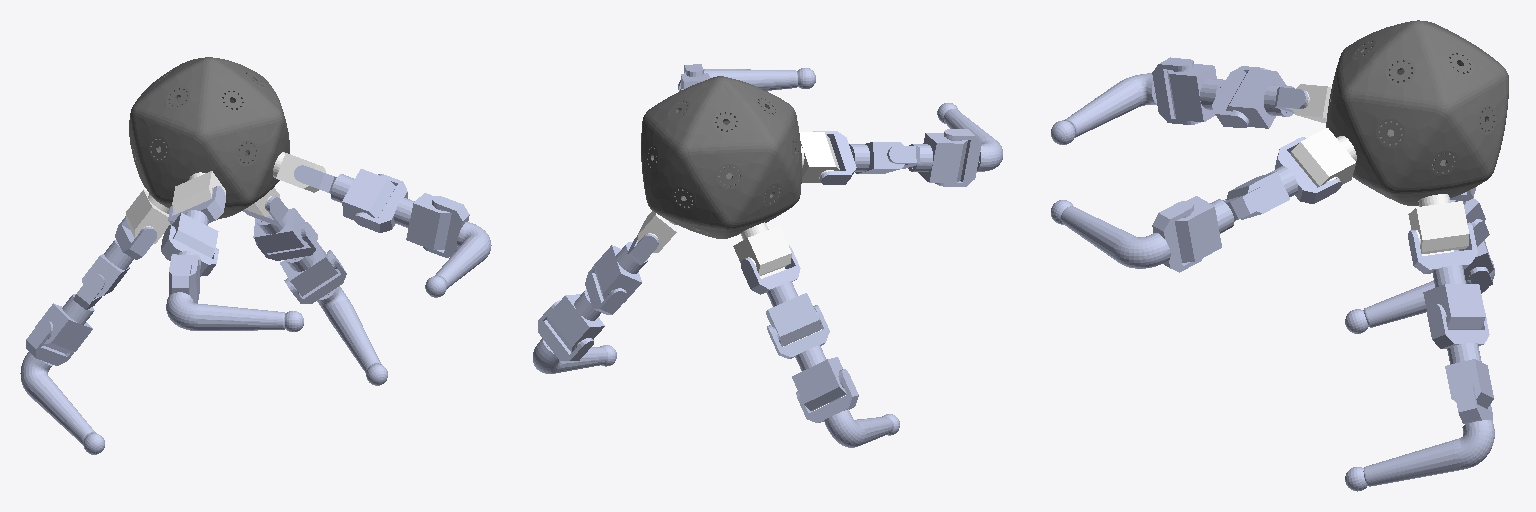
The robot description file, URDF, robot "mod_test":
<?xml version="1.0" encoding="utf-8"?>
<robot
  name="mod_test">
  <link
    name="base_link">
    <inertial>
      <origin
        xyz="-1.5226495220944E-06 1.5812928362389E-07 -5.05247252856584E-07"
        rpy="0 0 0" />
      <mass
        value="0.422806992949252" />
      <inertia
        ixx="0.00237499139253511"
        ixy="1.5717831530364E-08"
        ixz="1.49286265366169E-08"
        iyy="0.00237502154661776"
        iyz="-2.02154172619351E-08"
        izz="0.00237502595466009" />
    </inertial>
    <visual>
      <origin
        xyz="0 0 0"
        rpy="0 0 0" />
      <geometry>
        <mesh
          filename="package://meshes/base_link.STL" />
      </geometry>
      <material
        name="">
        <color
          rgba="0.498039215686275 0.498039215686275 0.498039215686275 1" />
      </material>
    </visual>
    <collision>
      <origin
        xyz="0 0 0"
        rpy="0 0 0" />
      <geometry>
        <mesh
          filename="package://meshes/base_link.STL" />
      </geometry>
    </collision>
  </link>
  <link
   name="160">
   <inertial>
      <origin
        xyz="0 0 0.028508"
        rpy="0 0 0" />
      <mass
        value="0.076173" />
      <inertia
        ixx="3.054E-05"
        ixy="0.000000"
        ixz="0.000000"
        iyy="2.1077E-05"
        iyz="0.000000"
        izz="2.1165E-05" />
    </inertial>
    <visual>
      <origin
        xyz="0 0 0"
        rpy="0 0 0" />
      <geometry>
        <mesh
          filename="package://meshes/1.STL" />
      </geometry>
      <material
        name="">
        <color
          rgba="1 1 1 1" />
      </material>
    </visual>
    <collision>
      <origin
        xyz="0 0 0"
        rpy="0 0 0" />
      <geometry>
        <mesh
          filename="package://meshes/1.STL" />
      </geometry>
    </collision>
  </link>
  <joint
    name="body_160"
    type="fixed">
    <origin
        xyz="0.051623 0.016773 -0.071046"
        rpy="3.141593 -0.652404 0.314159" />
    <parent
      link="base_link" />
    <child
      link="160" />
    <axis
      xyz="0 0 0" />
  </joint>
  <link
    name="161">
    <inertial>
      <origin
        xyz="0.060018 -1.4108E-06 1.4108E-06"
        rpy="0 0 0" />
    <mass
        value="0.10689" />
      <inertia
        ixx="3.2684e-05"
        ixy="-2.5662e-09"
        ixz="2.5662e-09"
        iyy="9.1229e-05"
        iyz="-4.0975e-06"
        izz="7.7485e-05" />
    </inertial>
    <visual>
      <origin
        xyz="0 0 0"
        rpy="0 0 0" />
      <geometry>
        <mesh
          filename="package://meshes/module11.STL" />
      </geometry>
      <material
        name="">
        <color
          rgba="0.79216 0.81961 0.93333 1" />
      </material>
    </visual>
    <collision>
      <origin
        xyz="0 0 0"
        rpy="0 0 0" />
      <geometry>
        <mesh
          filename="package://meshes/module11.STL" />
      </geometry>
    </collision>
  </link>
  <joint
    name="160_161"
    type="revolute">
    <origin
      xyz="0 0 0.04"
      rpy="-1.558 -1.5708 -0.012835" />
    <parent
      link="160" />
    <child
      link="161" />
    <axis
      xyz="0 0 1" />
    <limit
      lower="-6.28"
      upper="6.28"
      effort="10"
      velocity="100" />
  </joint>
  <link
    name="162">
    <inertial>
      <origin
        xyz="0.060018 -1.4108E-06 1.4108E-06"
        rpy="0 0 0" />
    <mass
        value="0.10689" />
      <inertia
        ixx="3.2684e-05"
        ixy="-2.5662e-09"
        ixz="2.5662e-09"
        iyy="9.1229e-05"
        iyz="-4.0975e-06"
        izz="7.7485e-05" />
    </inertial>
    <visual>
      <origin
        xyz="0 0 0"
        rpy="0 0 0" />
      <geometry>
        <mesh
          filename="package://meshes/module11.STL" />
      </geometry>
      <material
        name="">
        <color
          rgba="0.79216 0.81961 0.93333 1" />
      </material>
    </visual>
    <collision>
      <origin
        xyz="0 0 0"
        rpy="0 0 0" />
      <geometry>
        <mesh
          filename="package://meshes/module11.STL" />
      </geometry>
    </collision>
  </link>
  <joint
    name="161_162"
    type="revolute">
    <origin
      xyz="0.0816 0 0"
      rpy="5.759587 0 0" />
    <parent
      link="161" />
    <child
      link="162" />
    <axis
      xyz="0 0 1" />
    <limit
      lower="-6.28"
      upper="6.28"
      effort="10"
      velocity="100" />
  </joint>
  <link
    name="163">
    <inertial>
      <origin
        xyz="0.051733 -0.042281 -1.3878E-17"
        rpy="0 0 0" />
    <mass
        value="0.12059" />
      <inertia
        ixx="0.00025425"
        ixy="4.8319E-05"
        ixz="0"
        iyy="5.0194E-05"
        iyz="-3.3141E-21"
        izz="0.00027482" />
    </inertial>
    <visual>
      <origin
        xyz="0 0 0"
        rpy="0 0 0" />
      <geometry>
        <mesh
          filename="package://meshes/leg.STL" />
      </geometry>
      <material
        name="">
        <color
          rgba="0.79216 0.81961 0.93333 1" />
      </material>
    </visual>
    <collision>
      <origin
        xyz="0 0 0"
        rpy="0 0 0" />
      <geometry>
        <mesh
          filename="package://meshes/leg.STL" />
      </geometry>
    </collision>
  </link>
  <joint
    name="162_163"
    type="revolute">
    <origin
      xyz="0.0816 0 0"
      rpy="5.759587 0 0" />
    <parent
      link="162" />
    <child
      link="163" />
    <axis
      xyz="0 0 1" />
    <limit
      lower="-6.28"
      upper="6.28"
      effort="10"
      velocity="100" />
  </joint>
  <link
   name="100">
   <inertial>
      <origin
        xyz="0 0 0.028508"
        rpy="0 0 0" />
      <mass
        value="0.076173" />
      <inertia
        ixx="3.054E-05"
        ixy="-0.000000"
        ixz="-0.000000"
        iyy="2.1077E-05"
        iyz="-0.000000"
        izz="2.1165E-05" />
    </inertial>
    <visual>
      <origin
        xyz="0 0 0"
        rpy="0 0 0" />
      <geometry>
        <mesh
          filename="package://meshes/1.STL" />
      </geometry>
      <material
        name="">
        <color
          rgba="1 1 1 1" />
      </material>
    </visual>
    <collision>
      <origin
        xyz="0 0 0"
        rpy="0 0 0" />
      <geometry>
        <mesh
          filename="package://meshes/1.STL" />
      </geometry>
    </collision>
  </link>
  <joint
    name="body_100"
    type="fixed">
    <origin
        xyz="0.051620 -0.071049 -0.016769"
        rpy="-1.935587 1.017234 -2.827371" />
    <parent
      link="base_link" />
    <child
      link="100" />
    <axis
      xyz="0 0 0" />
  </joint>
  <link
    name="101">
    <inertial>
      <origin
        xyz="0.060018 -1.4108E-06 1.4108E-06"
        rpy="0 0 0" />
    <mass
        value="0.10689" />
      <inertia
        ixx="3.2684e-05"
        ixy="-2.5662e-09"
        ixz="2.5662e-09"
        iyy="8.6498e-05"
        iyz="4.0975e-06"
        izz="8.2217e-05" />
    </inertial>
    <visual>
      <origin
        xyz="0 0 0"
        rpy="0 0 0" />
      <geometry>
        <mesh
          filename="package://meshes/module2.STL" />
      </geometry>
      <material
        name="">
        <color
          rgba="0.79216 0.81961 0.93333 1" />
      </material>
    </visual>
    <collision>
      <origin
        xyz="0 0 0"
        rpy="0 0 0" />
      <geometry>
        <mesh
          filename="package://meshes/module2.STL" />
      </geometry>
    </collision>
  </link>
  <joint
    name="100_101"
    type="revolute">
    <origin
      xyz="0 0 0.04"
      rpy="-1.558 -1.5708 -0.012835" />
    <parent
      link="100" />
    <child
      link="101" />
    <axis
      xyz="0 0 1" />
    <limit
      lower="-6.28"
      upper="6.28"
      effort="10"
      velocity="100" />
  </joint>
  <link
    name="102">
    <inertial>
      <origin
        xyz="0.060018 -1.4108E-06 1.4108E-06"
        rpy="0 0 0" />
    <mass
        value="0.10689" />
      <inertia
        ixx="3.2684e-05"
        ixy="-2.5662e-09"
        ixz="2.5662e-09"
        iyy="8.6498e-05"
        iyz="4.0975e-06"
        izz="8.2217e-05" />
    </inertial>
    <visual>
      <origin
        xyz="0 0 0"
        rpy="0 0 0" />
      <geometry>
        <mesh
          filename="package://meshes/module2.STL" />
      </geometry>
      <material
        name="">
        <color
          rgba="0.79216 0.81961 0.93333 1" />
      </material>
    </visual>
    <collision>
      <origin
        xyz="0 0 0"
        rpy="0 0 0" />
      <geometry>
        <mesh
          filename="package://meshes/module2.STL" />
      </geometry>
    </collision>
  </link>
  <joint
    name="101_102"
    type="revolute">
    <origin
      xyz="0.0816 0 0"
      rpy="1.047198 0 0" />
    <parent
      link="101" />
    <child
      link="102" />
    <axis
      xyz="0 0 1" />
    <limit
      lower="-6.28"
      upper="6.28"
      effort="10"
      velocity="100" />
  </joint>
  <link
    name="103">
    <inertial>
      <origin
        xyz="0.051733 -0.042281 -1.3878E-17"
        rpy="0 0 0" />
    <mass
        value="0.12059" />
      <inertia
        ixx="0.00025425"
        ixy="4.8319E-05"
        ixz="0"
        iyy="5.0194E-05"
        iyz="-3.3141E-21"
        izz="0.00027482" />
    </inertial>
    <visual>
      <origin
        xyz="0 0 0"
        rpy="0 0 0" />
      <geometry>
        <mesh
          filename="package://meshes/leg.STL" />
      </geometry>
      <material
        name="">
        <color
          rgba="0.79216 0.81961 0.93333 1" />
      </material>
    </visual>
    <collision>
      <origin
        xyz="0 0 0"
        rpy="0 0 0" />
      <geometry>
        <mesh
          filename="package://meshes/leg.STL" />
      </geometry>
    </collision>
  </link>
  <joint
    name="102_103"
    type="revolute">
    <origin
      xyz="0.0816 0 0"
      rpy="1.047198 0 0" />
    <parent
      link="102" />
    <child
      link="103" />
    <axis
      xyz="0 0 1" />
    <limit
      lower="-6.28"
      upper="6.28"
      effort="10"
      velocity="100" />
  </joint>
  <link
   name="140">
   <inertial>
      <origin
        xyz="0 0 0.028508"
        rpy="0 0 0" />
      <mass
        value="0.076173" />
      <inertia
        ixx="3.054E-05"
        ixy="-0.000000"
        ixz="0.000000"
        iyy="2.1077E-05"
        iyz="-0.000000"
        izz="2.1165E-05" />
    </inertial>
    <visual>
      <origin
        xyz="0 0 0"
        rpy="0 0 0" />
      <geometry>
        <mesh
          filename="package://meshes/1.STL" />
      </geometry>
      <material
        name="">
        <color
          rgba="1 1 1 1" />
      </material>
    </visual>
    <collision>
      <origin
        xyz="0 0 0"
        rpy="0 0 0" />
      <geometry>
        <mesh
          filename="package://meshes/1.STL" />
      </geometry>
    </collision>
  </link>
  <joint
    name="body_140"
    type="fixed">
    <origin
        xyz="-0.051620 -0.071049 -0.016769"
        rpy="1.935587 1.017234 -0.314221" />
    <parent
      link="base_link" />
    <child
      link="140" />
    <axis
      xyz="0 0 0" />
  </joint>
  <link
    name="141">
    <inertial>
      <origin
        xyz="0.060018 -1.4108E-06 1.4108E-06"
        rpy="0 0 0" />
    <mass
        value="0.10689" />
      <inertia
        ixx="3.2684e-05"
        ixy="-2.5662e-09"
        ixz="2.5662e-09"
        iyy="8.6498e-05"
        iyz="-4.0975e-06"
        izz="8.2217e-05" />
    </inertial>
    <visual>
      <origin
        xyz="0 0 0"
        rpy="0 0 0" />
      <geometry>
        <mesh
          filename="package://meshes/module10.STL" />
      </geometry>
      <material
        name="">
        <color
          rgba="0.79216 0.81961 0.93333 1" />
      </material>
    </visual>
    <collision>
      <origin
        xyz="0 0 0"
        rpy="0 0 0" />
      <geometry>
        <mesh
          filename="package://meshes/module10.STL" />
      </geometry>
    </collision>
  </link>
  <joint
    name="140_141"
    type="revolute">
    <origin
      xyz="0 0 0.04"
      rpy="-1.558 -1.5708 -0.012835" />
    <parent
      link="140" />
    <child
      link="141" />
    <axis
      xyz="0 0 1" />
    <limit
      lower="-6.28"
      upper="6.28"
      effort="10"
      velocity="100" />
  </joint>
  <link
    name="142">
    <inertial>
      <origin
        xyz="0.060018 -1.4108E-06 1.4108E-06"
        rpy="0 0 0" />
    <mass
        value="0.10689" />
      <inertia
        ixx="3.2684e-05"
        ixy="-2.5662e-09"
        ixz="2.5662e-09"
        iyy="8.6498e-05"
        iyz="-4.0975e-06"
        izz="8.2217e-05" />
    </inertial>
    <visual>
      <origin
        xyz="0 0 0"
        rpy="0 0 0" />
      <geometry>
        <mesh
          filename="package://meshes/module10.STL" />
      </geometry>
      <material
        name="">
        <color
          rgba="0.79216 0.81961 0.93333 1" />
      </material>
    </visual>
    <collision>
      <origin
        xyz="0 0 0"
        rpy="0 0 0" />
      <geometry>
        <mesh
          filename="package://meshes/module10.STL" />
      </geometry>
    </collision>
  </link>
  <joint
    name="141_142"
    type="revolute">
    <origin
      xyz="0.0816 0 0"
      rpy="5.235988 0 0" />
    <parent
      link="141" />
    <child
      link="142" />
    <axis
      xyz="0 0 1" />
    <limit
      lower="-6.28"
      upper="6.28"
      effort="10"
      velocity="100" />
  </joint>
  <link
    name="143">
    <inertial>
      <origin
        xyz="0.051733 -0.042281 -1.3878E-17"
        rpy="0 0 0" />
    <mass
        value="0.12059" />
      <inertia
        ixx="0.00025425"
        ixy="4.8319E-05"
        ixz="0"
        iyy="5.0194E-05"
        iyz="-3.3141E-21"
        izz="0.00027482" />
    </inertial>
    <visual>
      <origin
        xyz="0 0 0"
        rpy="0 0 0" />
      <geometry>
        <mesh
          filename="package://meshes/leg.STL" />
      </geometry>
      <material
        name="">
        <color
          rgba="0.79216 0.81961 0.93333 1" />
      </material>
    </visual>
    <collision>
      <origin
        xyz="0 0 0"
        rpy="0 0 0" />
      <geometry>
        <mesh
          filename="package://meshes/leg.STL" />
      </geometry>
    </collision>
  </link>
  <joint
    name="142_143"
    type="revolute">
    <origin
      xyz="0.0816 0 0"
      rpy="5.235988 0 0" />
    <parent
      link="142" />
    <child
      link="143" />
    <axis
      xyz="0 0 1" />
    <limit
      lower="-6.28"
      upper="6.28"
      effort="10"
      velocity="100" />
  </joint>
  <link
   name="180">
   <inertial>
      <origin
        xyz="0 0 0.028508"
        rpy="0 0 0" />
      <mass
        value="0.076173" />
      <inertia
        ixx="3.054E-05"
        ixy="0.000000"
        ixz="0.000000"
        iyy="2.1077E-05"
        iyz="0.000000"
        izz="2.1165E-05" />
    </inertial>
    <visual>
      <origin
        xyz="0 0 0"
        rpy="0 0 0" />
      <geometry>
        <mesh
          filename="package://meshes/1.STL" />
      </geometry>
      <material
        name="">
        <color
          rgba="1 1 1 1" />
      </material>
    </visual>
    <collision>
      <origin
        xyz="0 0 0"
        rpy="0 0 0" />
      <geometry>
        <mesh
          filename="package://meshes/1.STL" />
      </geometry>
    </collision>
  </link>
  <joint
    name="body_180"
    type="fixed">
    <origin
        xyz="-0.051623 0.016773 -0.071046"
        rpy="3.141593 -0.652404 2.827433" />
    <parent
      link="base_link" />
    <child
      link="180" />
    <axis
      xyz="0 0 0" />
  </joint>
  <link
    name="181">
    <inertial>
      <origin
        xyz="0.060018 -1.4108E-06 1.4108E-06"
        rpy="0 0 0" />
    <mass
        value="0.10689" />
      <inertia
        ixx="3.2684e-05"
        ixy="-2.5662e-09"
        ixz="2.5662e-09"
        iyy="9.1229e-05"
        iyz="4.0975e-06"
        izz="7.7485e-05" />
    </inertial>
    <visual>
      <origin
        xyz="0 0 0"
        rpy="0 0 0" />
      <geometry>
        <mesh
          filename="package://meshes/module1.STL" />
      </geometry>
      <material
        name="">
        <color
          rgba="0.79216 0.81961 0.93333 1" />
      </material>
    </visual>
    <collision>
      <origin
        xyz="0 0 0"
        rpy="0 0 0" />
      <geometry>
        <mesh
          filename="package://meshes/module1.STL" />
      </geometry>
    </collision>
  </link>
  <joint
    name="180_181"
    type="revolute">
    <origin
      xyz="0 0 0.04"
      rpy="-1.558 -1.5708 -0.012835" />
    <parent
      link="180" />
    <child
      link="181" />
    <axis
      xyz="0 0 1" />
    <limit
      lower="-6.28"
      upper="6.28"
      effort="10"
      velocity="100" />
  </joint>
  <link
    name="182">
    <inertial>
      <origin
        xyz="0.060018 -1.4108E-06 1.4108E-06"
        rpy="0 0 0" />
    <mass
        value="0.10689" />
      <inertia
        ixx="3.2684e-05"
        ixy="-2.5662e-09"
        ixz="2.5662e-09"
        iyy="9.1229e-05"
        iyz="4.0975e-06"
        izz="7.7485e-05" />
    </inertial>
    <visual>
      <origin
        xyz="0 0 0"
        rpy="0 0 0" />
      <geometry>
        <mesh
          filename="package://meshes/module1.STL" />
      </geometry>
      <material
        name="">
        <color
          rgba="0.79216 0.81961 0.93333 1" />
      </material>
    </visual>
    <collision>
      <origin
        xyz="0 0 0"
        rpy="0 0 0" />
      <geometry>
        <mesh
          filename="package://meshes/module1.STL" />
      </geometry>
    </collision>
  </link>
  <joint
    name="181_182"
    type="revolute">
    <origin
      xyz="0.0816 0 0"
      rpy="0.523599 0 0" />
    <parent
      link="181" />
    <child
      link="182" />
    <axis
      xyz="0 0 1" />
    <limit
      lower="-6.28"
      upper="6.28"
      effort="10"
      velocity="100" />
  </joint>
  <link
    name="183">
    <inertial>
      <origin
        xyz="0.051733 -0.042281 -1.3878E-17"
        rpy="0 0 0" />
    <mass
        value="0.12059" />
      <inertia
        ixx="0.00025425"
        ixy="4.8319E-05"
        ixz="0"
        iyy="5.0194E-05"
        iyz="-3.3141E-21"
        izz="0.00027482" />
    </inertial>
    <visual>
      <origin
        xyz="0 0 0"
        rpy="0 0 0" />
      <geometry>
        <mesh
          filename="package://meshes/leg.STL" />
      </geometry>
      <material
        name="">
        <color
          rgba="0.79216 0.81961 0.93333 1" />
      </material>
    </visual>
    <collision>
      <origin
        xyz="0 0 0"
        rpy="0 0 0" />
      <geometry>
        <mesh
          filename="package://meshes/leg.STL" />
      </geometry>
    </collision>
  </link>
  <joint
    name="182_183"
    type="revolute">
    <origin
      xyz="0.0816 0 0"
      rpy="0.523599 0 0" />
    <parent
      link="182" />
    <child
      link="183" />
    <axis
      xyz="0 0 1" />
    <limit
      lower="-6.28"
      upper="6.28"
      effort="10"
      velocity="100" />
  </joint>
  <link
    name = "ball_1">
    <inertial>
    <origin
        xyz="0 0 0"
        rpy="0 0 0" />
    <mass
        value="0" />
      <inertia
        ixx="0"
        ixy="0"
        ixz="0"
        iyy="0"
        iyz="0"
        izz="0" />
    </inertial>    <visual>
      <origin
        xyz="0 0 0"
        rpy="0 0 0" />
     <geometry>
        <sphere radius = "0.01"/>
      </geometry>
      <material
        name="green">
        <color
          rgba="0.22 1 0.4 1" />
      </material>
    </visual>
  </link>
  <joint
  name="163_ball1"
  type="fixed">
    <origin
      xyz="0.0612 -0.13431 0"
      rpy="0 0 0" />
    <parent
      link="163" />
    <child
      link="ball_1" />
    <axis
      xyz="0 0 0" />
  </joint>
  <link
    name = "ball_2">
    <inertial>
    <origin
        xyz="0 0 0"
        rpy="0 0 0" />
    <mass
        value="0" />
      <inertia
        ixx="0"
        ixy="0"
        ixz="0"
        iyy="0"
        iyz="0"
        izz="0" />
    </inertial>    <visual>
      <origin
        xyz="0 0 0"
        rpy="0 0 0" />
      <geometry>
        <sphere radius = "0.01"/>
      </geometry>
      <material
        name="blue">
        <color
          rgba="0.16 0.52 0.8 1" />
      </material>
    </visual>
  </link>
  <joint
  name="103_ball2"
  type="fixed">
    <origin
      xyz="0.0612 -0.13431 0"
      rpy="0 0 0" />
    <parent
      link="103" />
    <child
      link="ball_2" />
    <axis
      xyz="0 0 0" />
  </joint>
  <link
    name = "ball_3">
    <inertial>
    <origin
        xyz="0 0 0"
        rpy="0 0 0" />
    <mass
        value="0" />
      <inertia
        ixx="0"
        ixy="0"
        ixz="0"
        iyy="0"
        iyz="0"
        izz="0" />
    </inertial>    <visual>
      <origin
        xyz="0 0 0"
        rpy="0 0 0" />
     <geometry>
        <sphere radius = "0.01"/>
      </geometry>
      <material
        name="blue">
        <color
          rgba="0.16 0.52 0.8 1" />
      </material>
    </visual>
  </link>
  <joint
  name="143_ball3"
  type="fixed">
    <origin
      xyz="0.0612 -0.13431 0"
      rpy="0 0 0" />
    <parent
      link="143" />
    <child
      link="ball_3" />
    <axis
      xyz="0 0 0" />
  </joint>
  <link
    name = "ball_4">
    <inertial>
    <origin
        xyz="0 0 0"
        rpy="0 0 0" />
    <mass
        value="0" />
      <inertia
        ixx="0"
        ixy="0"
        ixz="0"
        iyy="0"
        iyz="0"
        izz="0" />
    </inertial>    <visual>
      <origin
        xyz="0 0 0"
        rpy="0 0 0" />
      <geometry>
        <sphere radius = "0.01"/>
      </geometry>
      <material
        name="yellow">
        <color
          rgba="1 1 0 1" />
      </material>
    </visual>
  </link>
  <joint
  name="183_ball4"
  type="fixed">
    <origin
      xyz="0.0612 -0.13431 0"
      rpy="0 0 0" />
    <parent
      link="183" />
    <child
      link="ball_4" />
    <axis
      xyz="0 0 0" />
  </joint>
</robot>

--- Render facts (derived) ---
3 views of the same robot in one strip: view 1: azimuth 30°, elevation 25°; view 2: azimuth 150°, elevation 25°; view 3: azimuth 270°, elevation 25° (orthographic).
Robot: mod_test — 21 links, 20 joints (12 revolute, 8 fixed); root link base_link; default pose: every joint at zero.
Visible links, largest first — view 1: base_link, 143, 183, 163, 102, 103, 101, 182, 162, 181, 141, 161 (+4 smaller); view 2: base_link, 181, 182, 162, 183, 142, 163, 143, 161, 141, 180, 103 (+2 smaller); view 3: base_link, 163, 103, 143, 161, 142, 102, 162, 141, 101, 160, 100 (+4 smaller).
Link boxes in pixels (x1,y1,x2,y2): base_link: [129, 57, 289, 219]; 143: [166, 258, 303, 331]; 183: [20, 320, 104, 454]; 163: [284, 250, 387, 385]; 102: [353, 174, 451, 249]; 103: [423, 196, 491, 297]; 101: [294, 165, 395, 219]; 182: [35, 274, 104, 353]; 162: [255, 222, 337, 296]; 181: [82, 216, 156, 296]; 141: [168, 186, 225, 257]; 161: [243, 196, 307, 253]; base_link: [641, 76, 801, 238]; 181: [741, 245, 821, 346]; 182: [767, 305, 846, 410]; 162: [547, 266, 627, 352]; 183: [796, 369, 899, 447]; 142: [887, 133, 967, 182]; 163: [533, 300, 616, 373]; 143: [935, 103, 1002, 186]; 161: [594, 234, 658, 302]; 141: [813, 131, 904, 184]; 180: [733, 222, 791, 275]; 103: [678, 64, 815, 90]; base_link: [1326, 20, 1508, 205]; 163: [1345, 377, 1494, 491]; 103: [1051, 200, 1202, 272]; 143: [1051, 57, 1200, 144]; 161: [1408, 222, 1485, 329]; 142: [1167, 64, 1267, 127]; 102: [1175, 186, 1274, 262]; 162: [1427, 304, 1493, 408]; 141: [1226, 69, 1308, 128]; 101: [1226, 137, 1341, 219]; 160: [1408, 194, 1468, 253]; 100: [1290, 128, 1356, 187].
Bounding box of the posed robot: 0.4363 × 0.4662 × 0.4368 m (x, y, z).
17 mesh visuals loaded from 7 distinct referenced files (7 binary STL).
